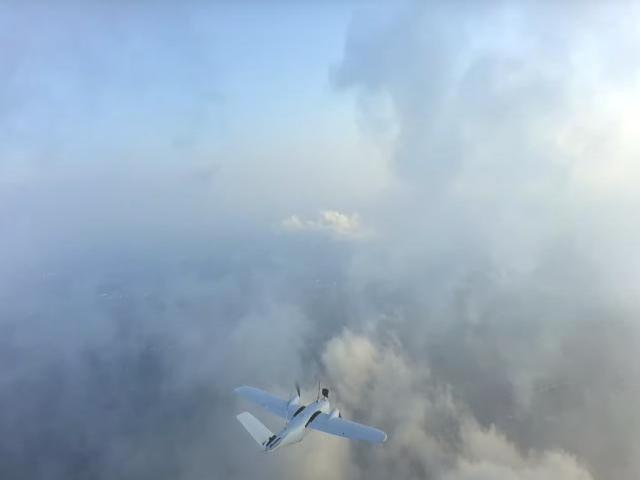iha: (222, 380, 392, 457)
